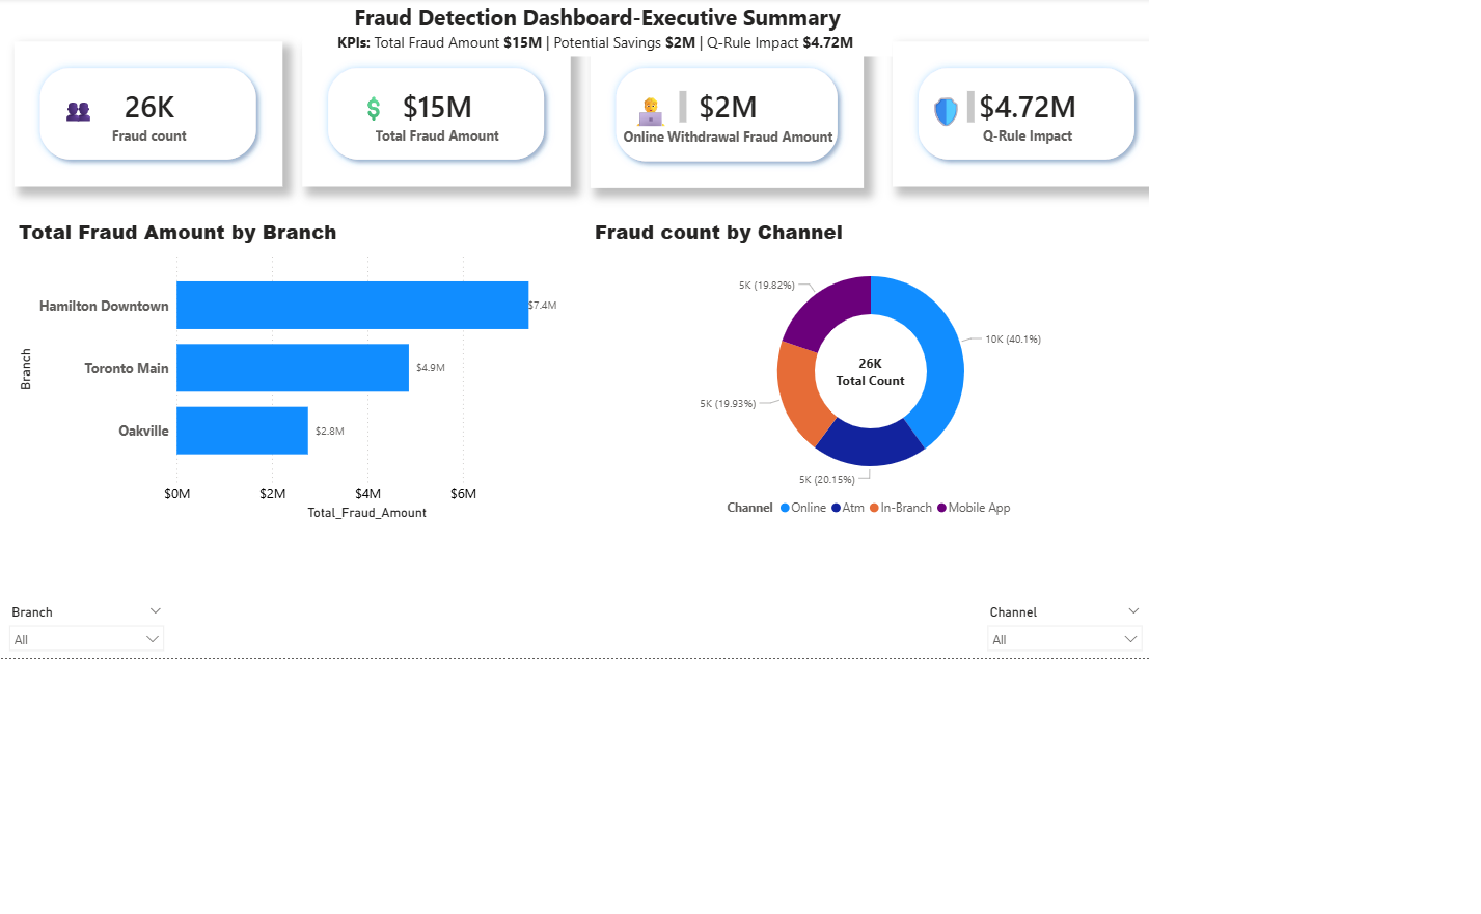

This screenshot's page, from the dashboard's own definition file:
{"tool":"powerbi","page":{"name":"Executive Summary","canvas":[1280,720],"ordinal":0},"visuals":[{"type":"cardVisual","fields":{"Data":["_.Fraud_count"]},"box":[16,48,298,158],"z":0},{"type":"cardVisual","fields":{"Data":["_.Total_Fraud_Amount"]},"box":[336,48,298,158],"z":1000},{"type":"cardVisual","fields":{"Data":["_.Q-Rule Impact"]},"box":[992,48,298,158],"z":2000},{"type":"cardVisual","fields":{"Data":["_.Online_withdrawal_fraud"]},"box":[656,48,304,160],"z":3000},{"type":"clusteredBarChart","title":"Total Fraud Amount by Branch","fields":{"Category":["risk_view.Branch"],"Y":["_.Total_Fraud_Amount"]},"box":[16,240,624,336],"z":4000},{"type":"donutChart","fields":{"Category":["risk_view.Channel"],"Y":["_.Fraud_count"]},"box":[656,240,624,336],"z":5000},{"type":"slicer","fields":{"Values":["risk_view.Branch"]},"box":[0,656,192,64],"z":6000},{"type":"slicer","fields":{"Values":["risk_view.Channel"]},"box":[1088,656,192,64],"z":7000},{"type":"textbox","box":[336,0,656,64],"z":8000},{"type":"textbox","box":[48,96,80,48],"z":9000},{"type":"textbox","box":[912,384,112,48],"z":10000},{"type":"textbox","box":[1024,96,64,48],"z":11000},{"type":"textbox","box":[688,96,80,48],"z":12000},{"type":"textbox","box":[384,96,64,48],"z":13000}]}

Visuals, with their boxes on the page's 1280x720 design canvas (x1, y1, x2, y2). These are canvas units, not pixel positions in the 1481x914 screenshot, which may show the page scaled, cropped or inside an application window:
cardVisual - _.Fraud_count: select_region(16, 48, 314, 206)
cardVisual - _.Total_Fraud_Amount: select_region(336, 48, 634, 206)
cardVisual - _.Q-Rule Impact: select_region(992, 48, 1290, 206)
cardVisual - _.Online_withdrawal_fraud: select_region(656, 48, 960, 208)
"Total Fraud Amount by Branch" clusteredBarChart: select_region(16, 240, 640, 576)
donutChart - risk_view.Channel x _.Fraud_count: select_region(656, 240, 1280, 576)
slicer - risk_view.Branch: select_region(0, 656, 192, 720)
slicer - risk_view.Channel: select_region(1088, 656, 1280, 720)
textbox: select_region(336, 0, 992, 64)
textbox: select_region(48, 96, 128, 144)
textbox: select_region(912, 384, 1024, 432)
textbox: select_region(1024, 96, 1088, 144)
textbox: select_region(688, 96, 768, 144)
textbox: select_region(384, 96, 448, 144)
